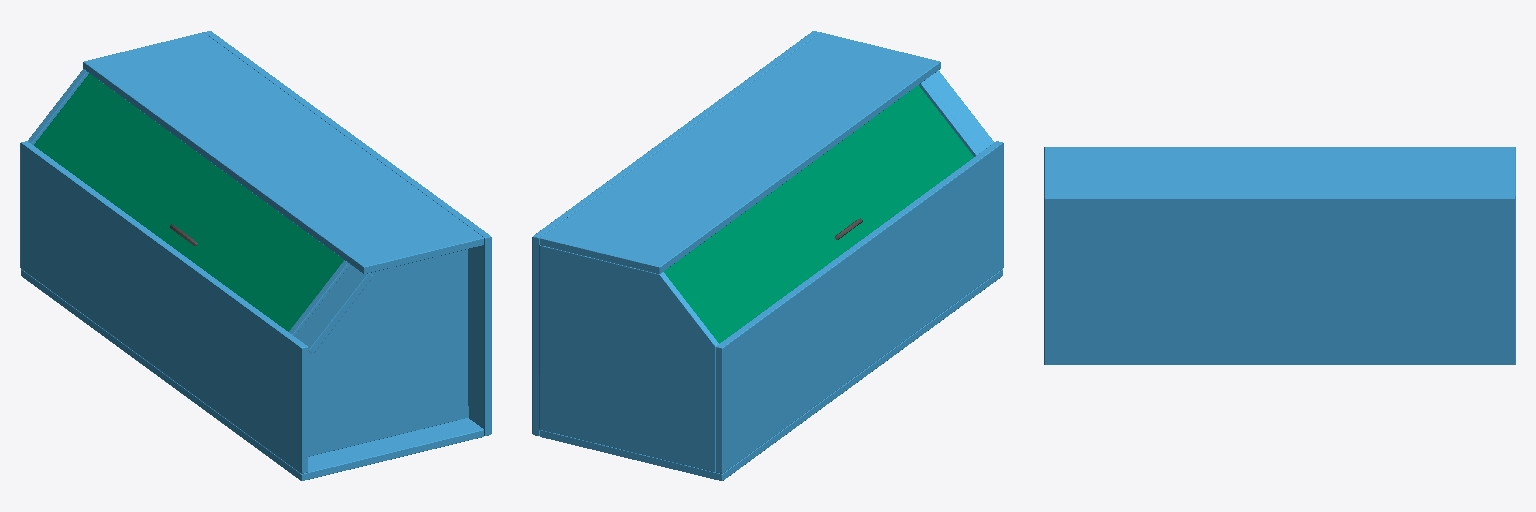
URDF robot description (269):
<robot name="269">


	<link name="0:virtual">
		<visual>
			<origin xyz="0.0 0.0 0.0" rpy="0 0 0"/>
			<geometry>
				<cylinder length="0" radius="0"/>
			</geometry>
		</visual>
	</link>


	<link name="1:static">
		<visual>
			<origin xyz="-0.0 -0.0 -0.0" rpy="0 0 0"/>
			<geometry>
				<mesh filename="../raw_data/269/part_meshes/1.dae" />
			</geometry>
		</visual>
	</link>


	<link name="2:cabinet door 1">
		<visual>
			<origin xyz="0.09774915125898889 -1.1101119592785835 -0.3620684363282136" rpy="0 0 0"/>
			<geometry>
				<mesh filename="../raw_data/269/part_meshes/2.dae" />
			</geometry>
		</visual>
	</link>


	<joint name="0:virtual::1:static" type="fixed">
		<parent link="0:virtual"/>
		<child link="1:static"/>
		<origin xyz="0.0 0.0 0.0" rpy="0 0 0"/>
	</joint>


	<joint name="0:virtual::2:cabinet door 1_rotation" type="revolute">
		<parent link="0:virtual"/>
		<child link="2:cabinet door 1"/>
		<origin xyz="-0.09774915125898889 1.1101119592785835 0.3620684363282136" rpy="0 0 0"/>
		<limit lower="0.0" upper="1.8064157758141308" effort="10" velocity="3"/>
		<axis xyz="0.0 1.0 0.0"/>
	</joint>


</robot>

--- Render facts (derived) ---
3 views of the same robot in one strip: view 1: azimuth 30°, elevation 25°; view 2: azimuth 150°, elevation 25°; view 3: azimuth 270°, elevation 25° (orthographic).
Model 269 with 3 links and 2 joints (1 revolute, 1 fixed), rooted at 0:virtual, posed every joint at zero.
Visible links, largest first — view 1: 1:static, 2:cabinet door 1; view 2: 1:static, 2:cabinet door 1; view 3: 1:static.
Link boxes in pixels (x1,y1,x2,y2): 1:static: (20,31,491,480); 2:cabinet door 1: (34,73,343,331); 1:static: (532,31,1003,480); 2:cabinet door 1: (664,85,973,343); 1:static: (1044,147,1515,364).
Size in the robot's own frame: 0.82 by 2.1 by 0.82 metres.
2 mesh visuals loaded from 2 distinct referenced files (2 Collada DAE).